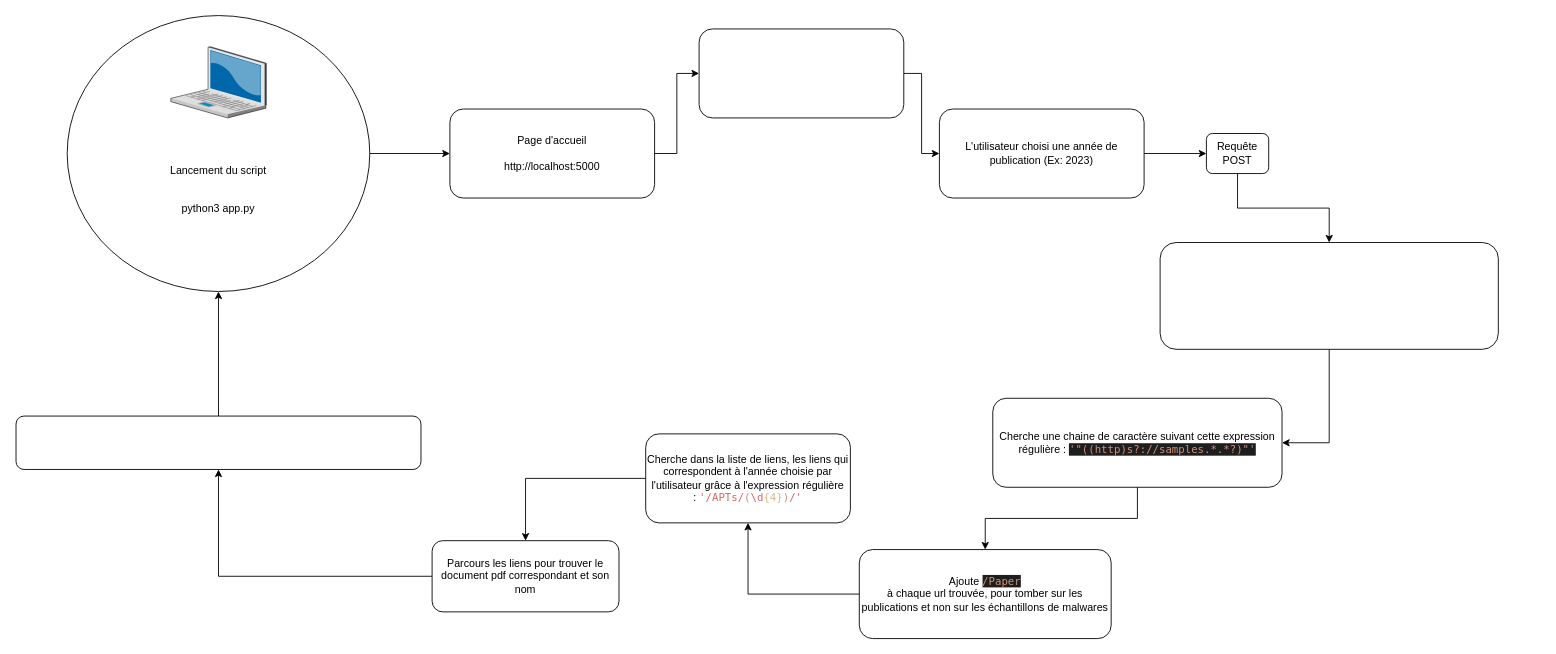
Some shapes in this 1556 by 654 pixel diagram are drawn without their labels. The shapes that lost their labels are listed below. From the top down, each one's centre as x and y in pixels, then its label:
the point at 801,73: Page de veille http://localhost:5000/veille
the point at 1328,295: https://www.vx-underground.org/malware.html
the point at 218,442: Enregistre les résultats en csv sous la forme PDF + Lien de téléchargement
